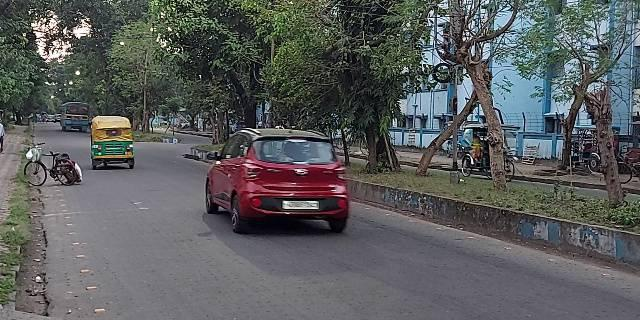Autorickshaw: (92, 117, 139, 168)
Bus: (61, 102, 90, 129)
Car: (205, 126, 351, 231)
Cycle: (26, 151, 78, 186)
